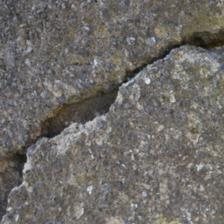Crack: (27, 42, 186, 155)
